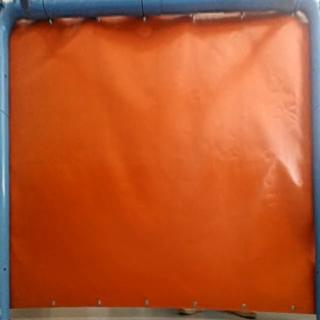Hit-hRxx: (270, 150, 289, 166)
